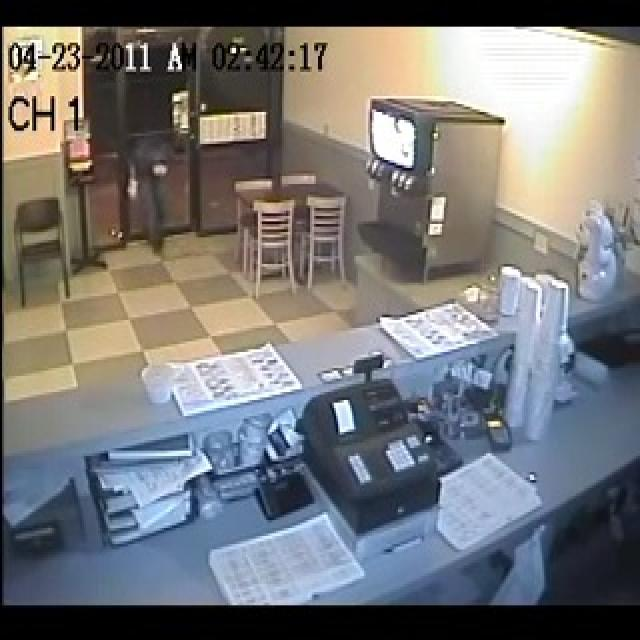burglary: (110, 99, 213, 247)
